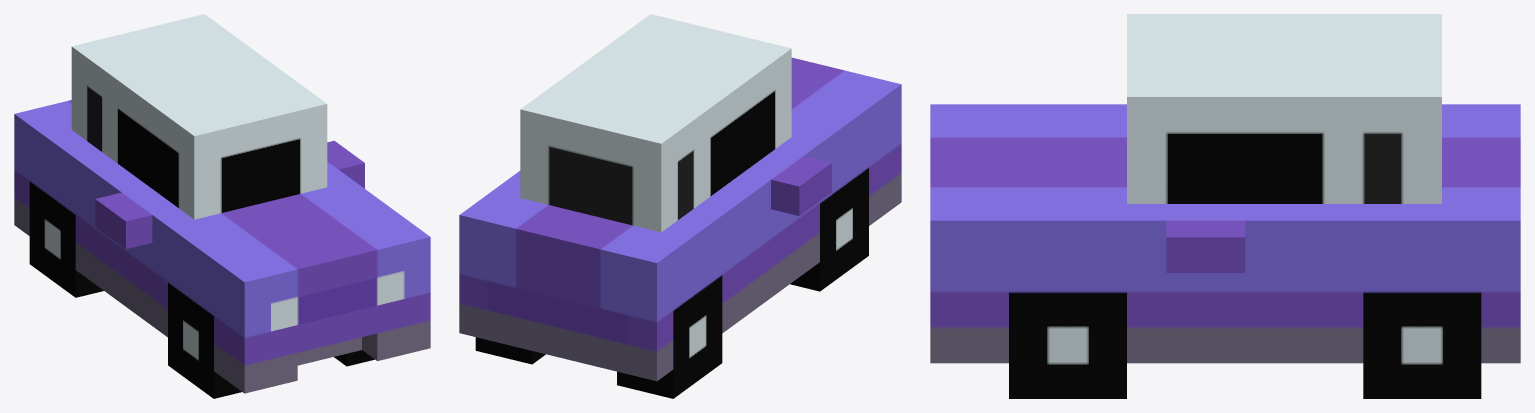
The model's file is PurpleCar.fbx.
3 renders of one model, left to right at view 1: azimuth 30°, elevation 25°; view 2: azimuth 150°, elevation 25°; view 3: azimuth 270°, elevation 25°, orthographic. The views are drawn at different scales.
Parts seen in each view (by area): view 1: Ganster; view 2: Ganster; view 3: Ganster.
Part boxes in pixels (x1,y1,x2,y2): Ganster: (14,14,430,398); Ganster: (459,14,901,398); Ganster: (930,14,1520,398).
Size of the model in its own units: 108 by 96 by 180.
